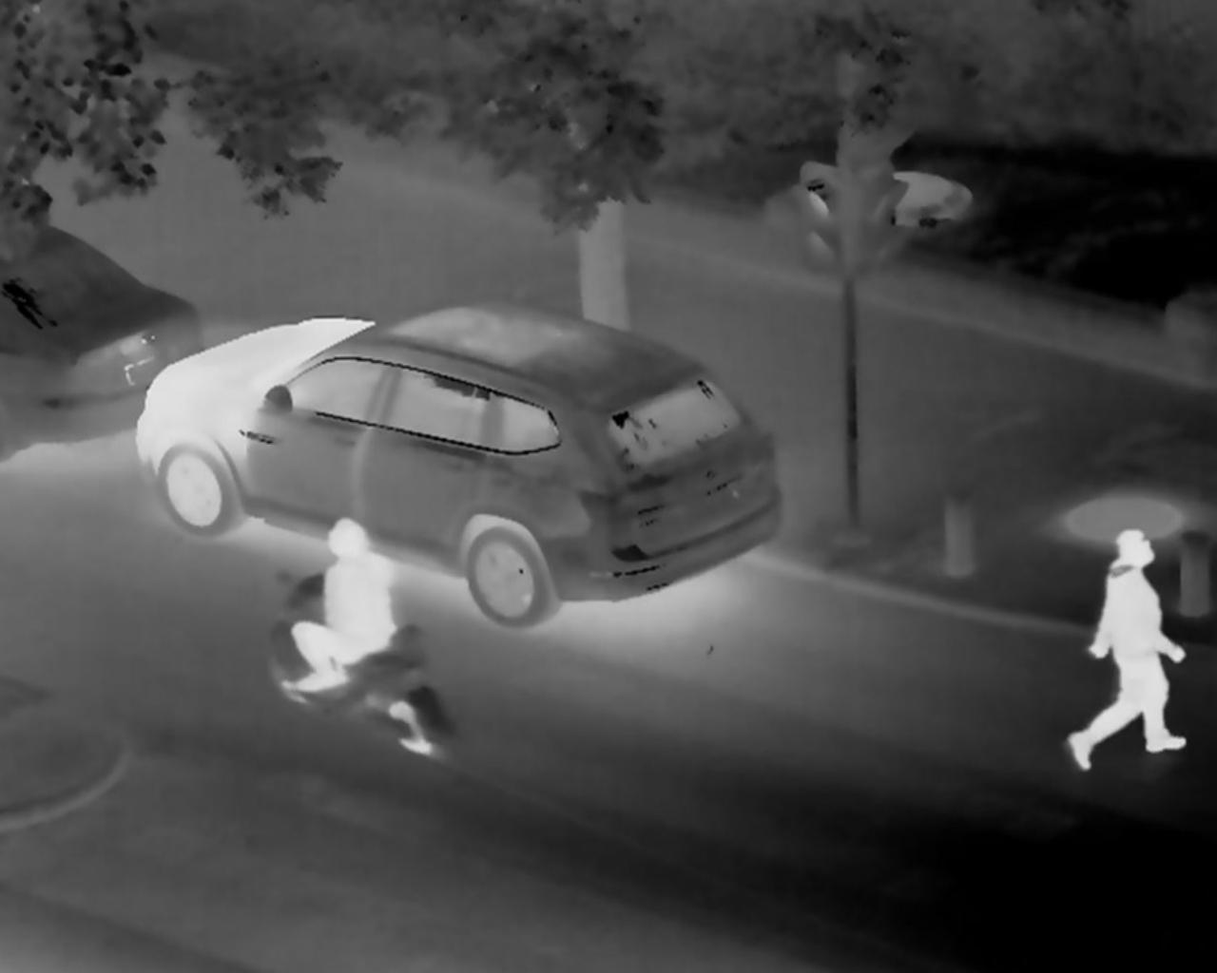person: (1060, 509, 1193, 788), (281, 516, 403, 701)
